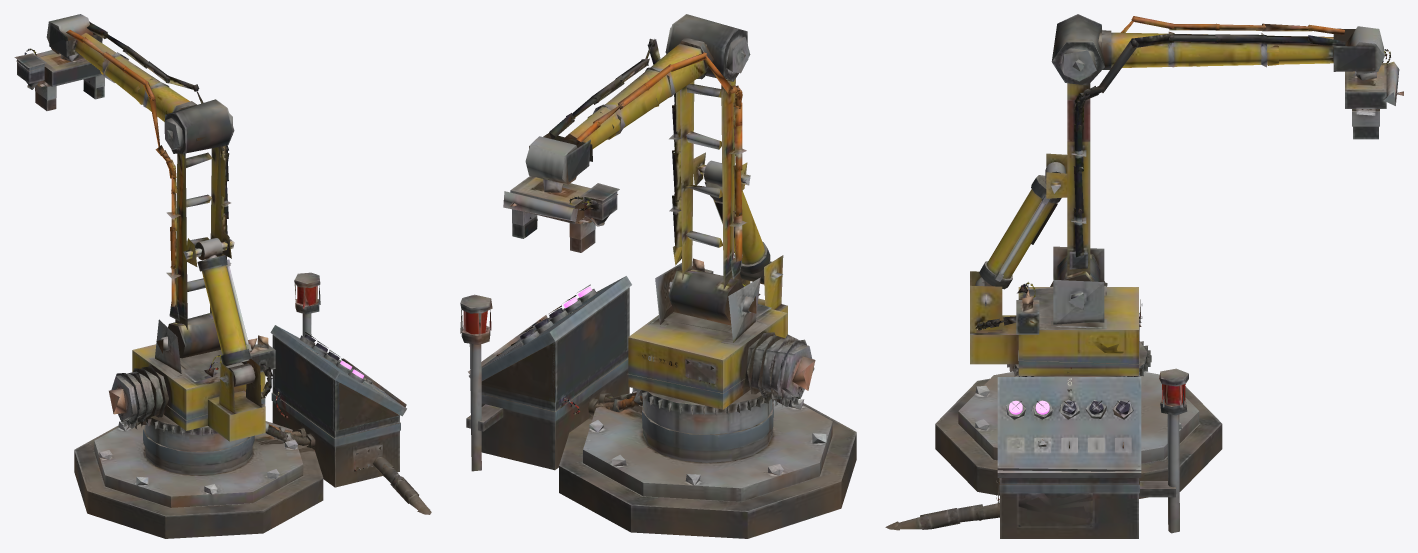
File: braco_filtro.glb
3 views of the same model, side by side, from view 1: azimuth 30°, elevation 25°; view 2: azimuth 150°, elevation 25°; view 3: azimuth 270°, elevation 25° (orthographic). The views are drawn at different scales.
Visible parts, largest first — view 1: braco_filtro_base, braco_filtro_giro, braco_filtro_braco1, braco_filtro_braco2, braco_filtro_garra, braco_filtro_camisa; view 2: braco_filtro_base, braco_filtro_giro, braco_filtro_braco1, braco_filtro_braco2, braco_filtro_garra, braco_filtro_camisa; view 3: braco_filtro_base, braco_filtro_giro, braco_filtro_braco2, braco_filtro_braco1, braco_filtro_garra, braco_filtro_camisa.
Part boxes in pixels (x1,y1,x2,y2): braco_filtro_base: (74,272,431,538); braco_filtro_giro: (109,319,275,441); braco_filtro_braco1: (155,99,234,358); braco_filtro_braco2: (49,21,206,149); braco_filtro_garra: (14,14,104,110); braco_filtro_camisa: (197,255,254,387); braco_filtro_base: (460,276,856,538); braco_filtro_giro: (627,255,815,409); braco_filtro_braco1: (665,14,750,325); braco_filtro_braco2: (529,37,732,182); braco_filtro_garra: (503,136,619,252); braco_filtro_camisa: (704,181,771,284); braco_filtro_base: (885,341,1222,538); braco_filtro_giro: (970,246,1142,375); braco_filtro_braco2: (1098,16,1375,92); braco_filtro_braco1: (1046,14,1104,281); braco_filtro_garra: (1345,26,1403,139); braco_filtro_camisa: (975,175,1061,289).
Size of the model in its own units: 0.7898 by 1.01 by 1.12.
2 materials, 1 textured.
